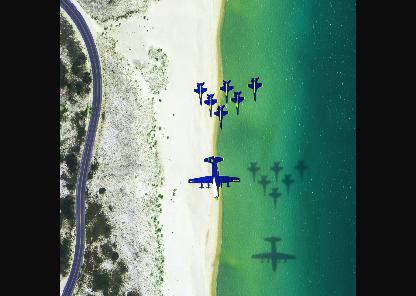Be200: (188, 154, 240, 198)
F15: (230, 89, 245, 115), (219, 79, 234, 104), (194, 81, 208, 106), (248, 76, 262, 100), (214, 104, 228, 128), (204, 92, 218, 116)
